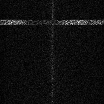wifi: (1, 19, 104, 25)
